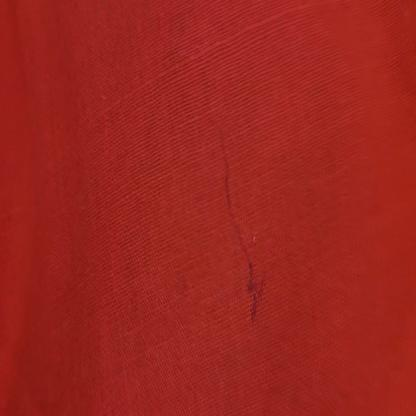spot: (194, 68, 275, 343)
